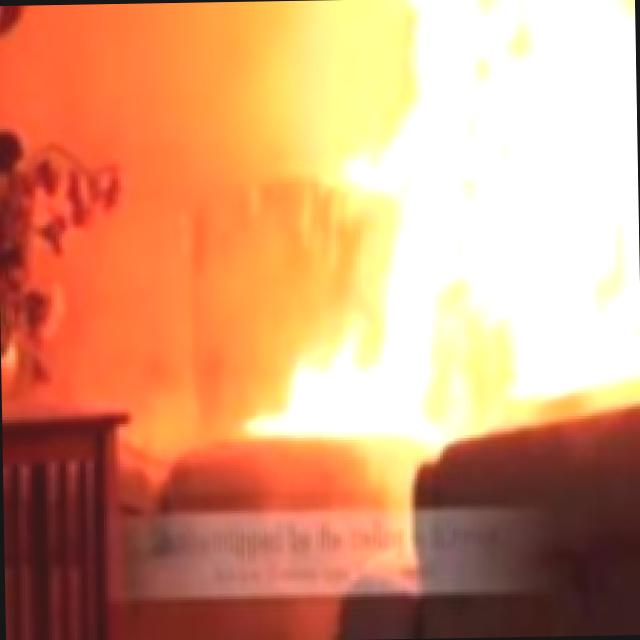fire: (257, 0, 640, 451)
